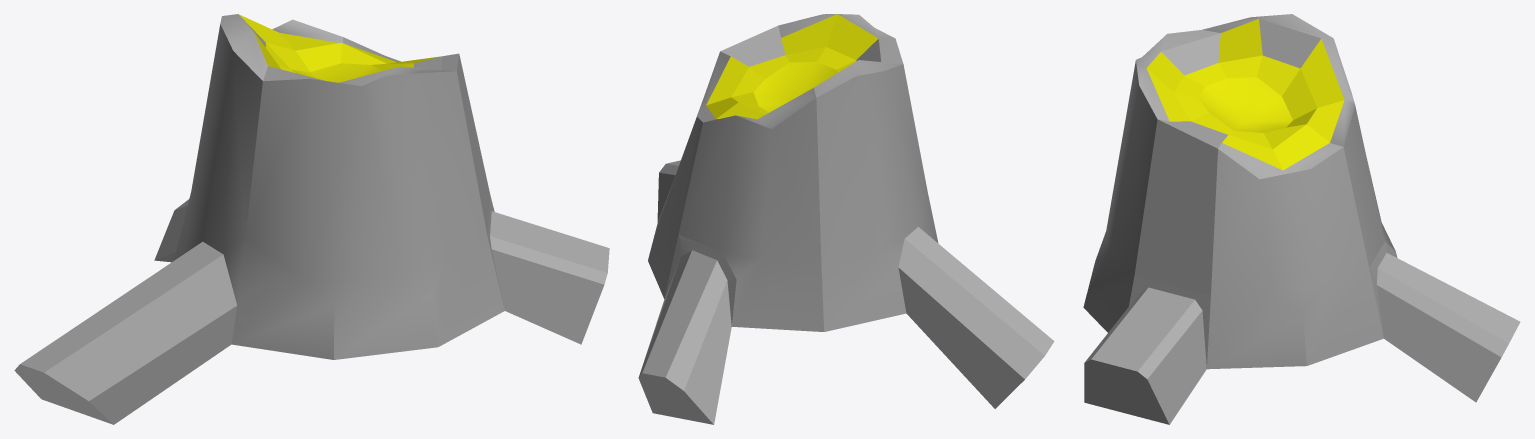
The model's file is Stump2.fbx.
3 renders of one model, left to right at view 1: azimuth 30°, elevation 25°; view 2: azimuth 150°, elevation 25°; view 3: azimuth 270°, elevation 25°, orthographic. The views are drawn at different scales.
Visible parts, largest first — view 1: Stump2; view 2: Stump2; view 3: Stump2.
Boxes of the visible parts, x1,y1,x2,y2 form: Stump2: (14,14,609,424); Stump2: (638,14,1054,424); Stump2: (1083,14,1520,424).
Size of the model in its own units: 4.53 by 2.97 by 3.58.
